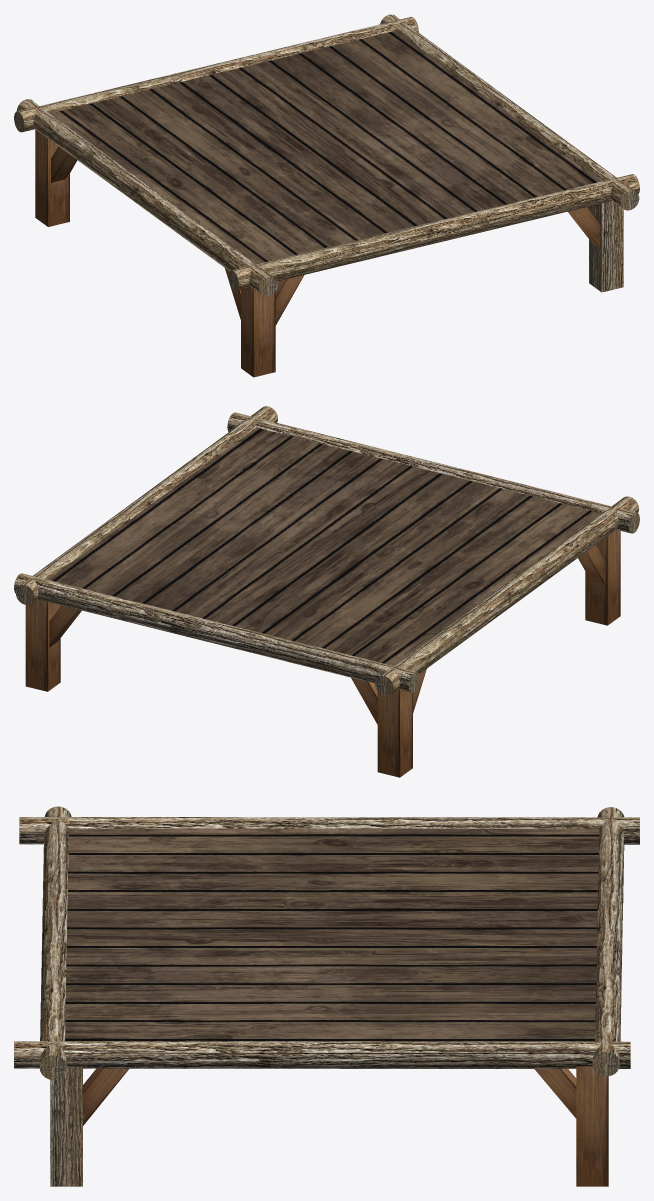
Rendered from wooden flor.gltf.
3 renders of one model, top to bottom at view 1: azimuth 30°, elevation 25°; view 2: azimuth 150°, elevation 25°; view 3: azimuth 270°, elevation 25°, orthographic. The views are drawn at different scales.
Visible parts, largest first — view 1: Küp (×7), Silindir (×4); view 2: Küp (×7), Silindir (×4); view 3: Küp (×5), Silindir (×4).
Boxes of the visible parts, x1=… form: Küp (×7): x1=35, y1=27, x2=623, y2=377; Silindir (×4): x1=14, y1=14, x2=639, y2=296; Küp (×7): x1=25, y1=427, x2=620, y2=777; Silindir (×4): x1=14, y1=406, x2=639, y2=696; Küp (×5): x1=50, y1=828, x2=608, y2=1186; Silindir (×4): x1=14, y1=806, x2=639, y2=1079.
Size of the model in its own units: 2.11 by 0.5487 by 2.23.
Materials: 18 (18 with a texture image).
